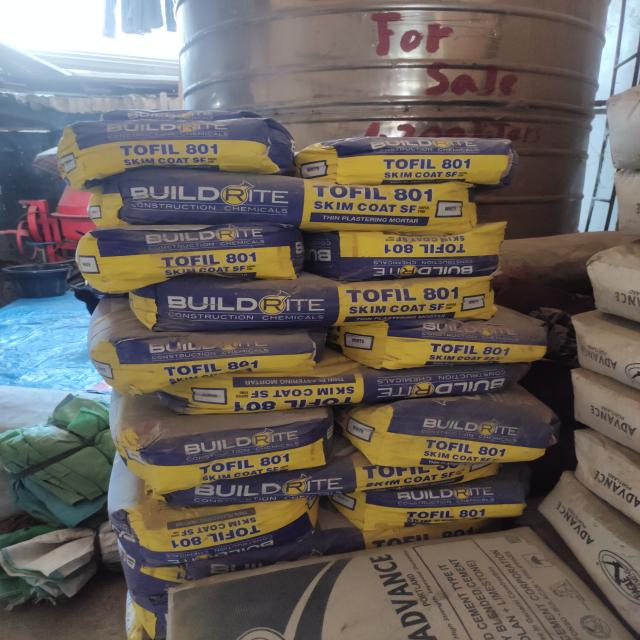Skim coat: (94, 173, 482, 232), (166, 370, 520, 415), (140, 284, 499, 320), (127, 488, 312, 556), (83, 230, 305, 280), (125, 426, 330, 480), (67, 125, 281, 176), (315, 136, 515, 185), (307, 226, 502, 273), (111, 336, 312, 379), (348, 321, 549, 364), (177, 466, 506, 491), (355, 412, 559, 452), (355, 481, 523, 527)
